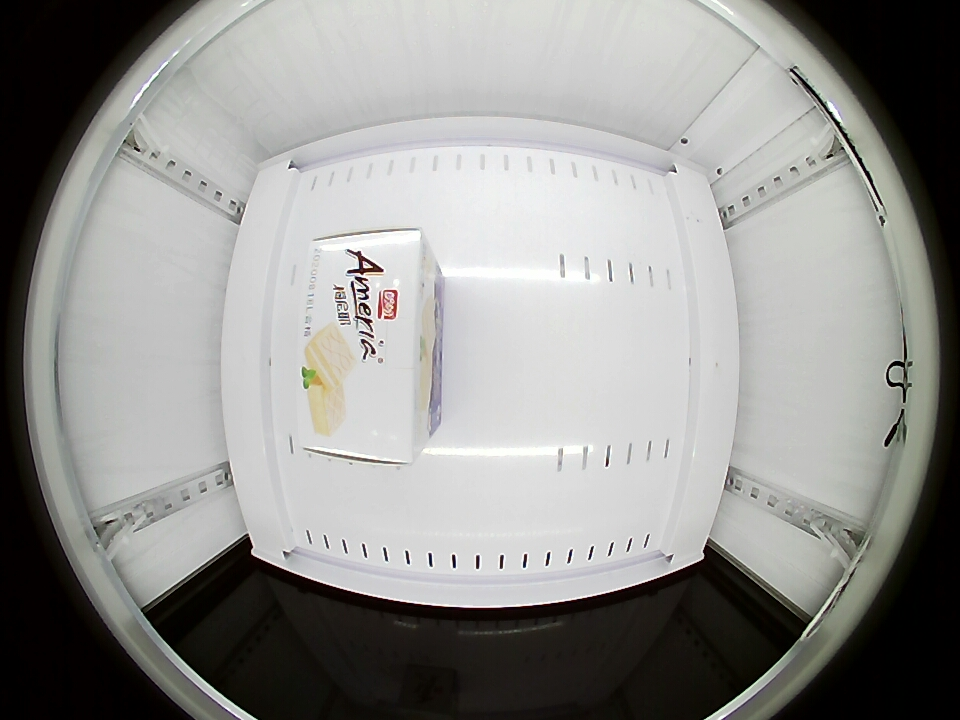meiniye: (297, 227, 436, 461)
